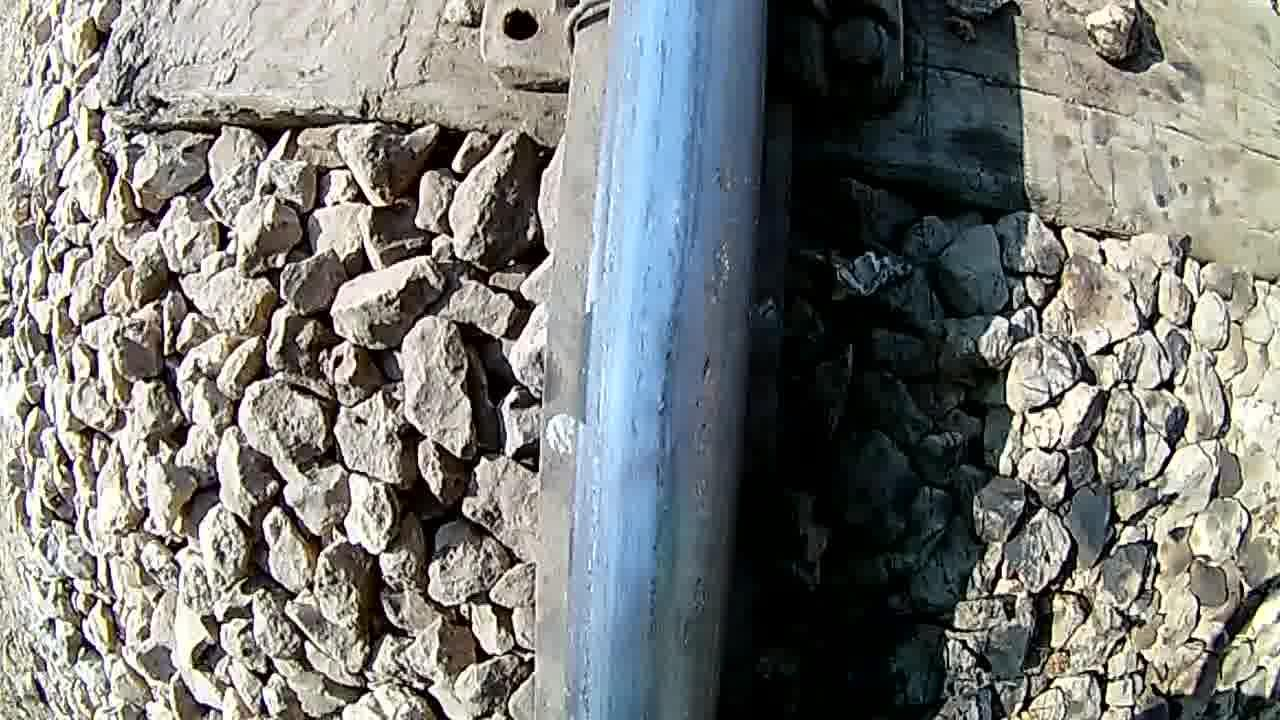crack: (613, 4, 753, 720)
